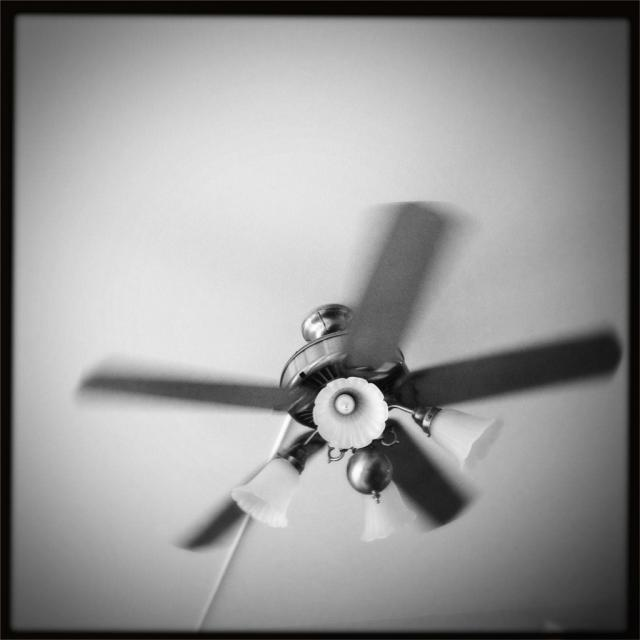Bulb: (75, 202, 623, 555)
